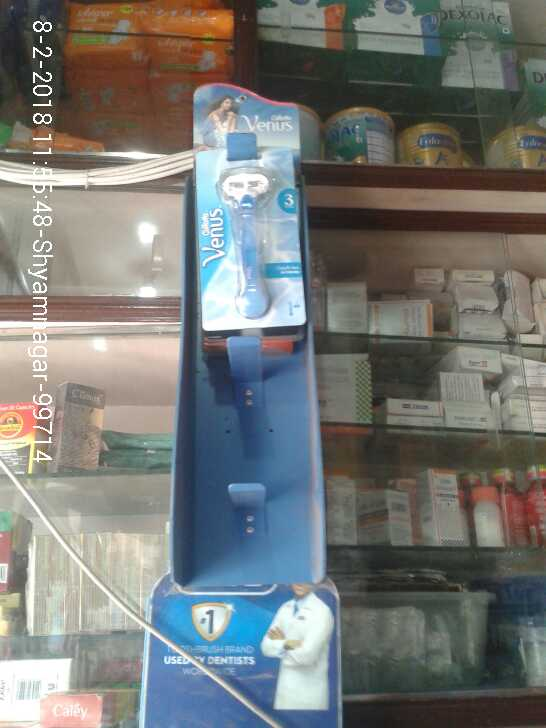venus: (192, 145, 309, 326)
